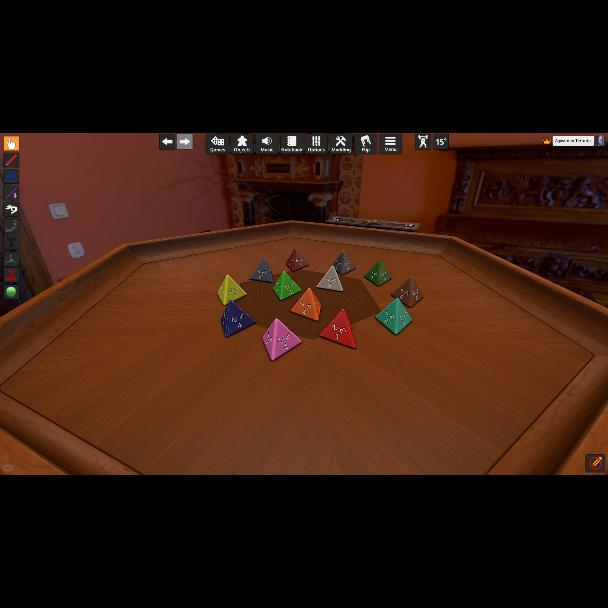d4: (262, 318, 302, 360), (320, 310, 356, 350), (376, 299, 412, 336), (221, 300, 255, 338), (272, 271, 302, 301), (292, 288, 320, 320), (394, 276, 422, 307), (217, 276, 245, 306), (365, 260, 391, 286), (316, 266, 342, 292), (250, 258, 274, 284), (332, 252, 354, 276), (286, 248, 308, 272)
